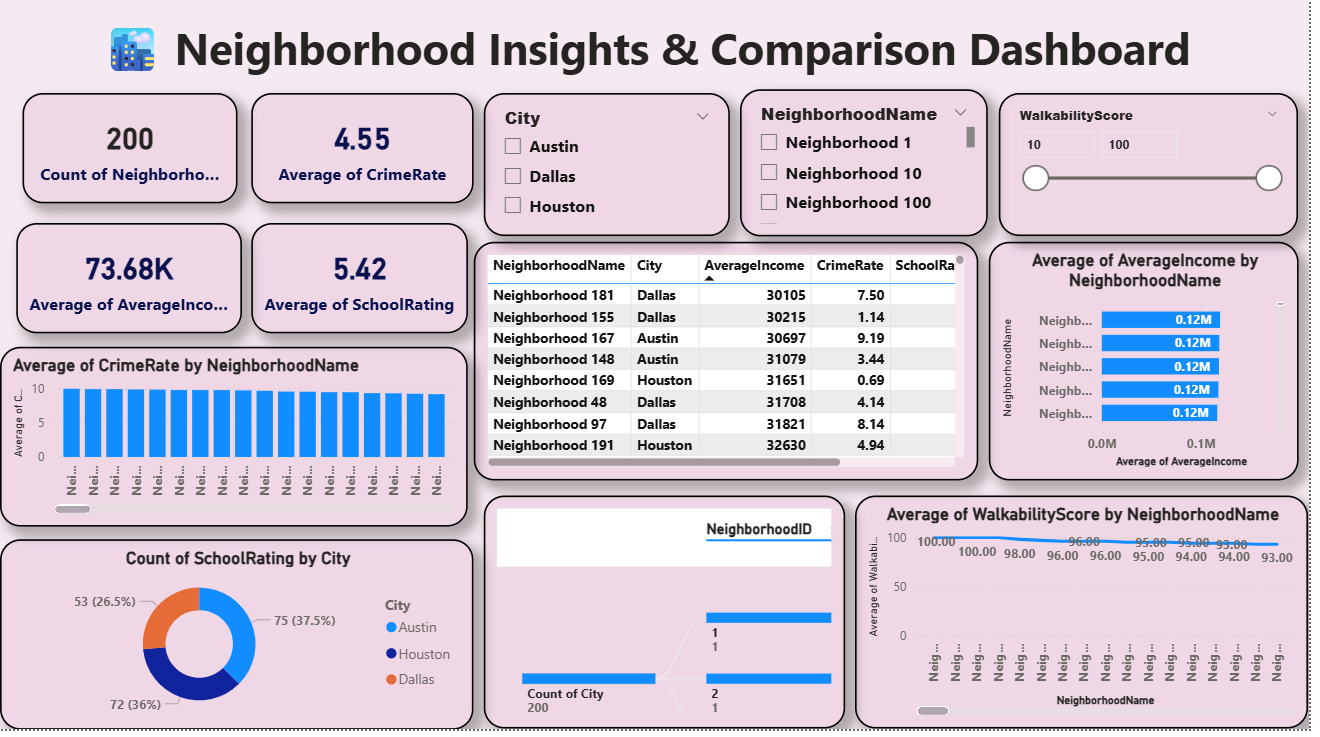

What the dashboard file says about the page in this screenshot:
{"tool":"powerbi","page":{"name":"Page 6","canvas":[1280,720],"ordinal":5},"visuals":[{"type":"card","fields":{"Values":["Avg(Neighborhoods.AverageIncome)"]},"box":[15.9,225.1,220.7,108.2],"z":0},{"type":"card","fields":{"Values":["Count(Neighborhoods.NeighborhoodID)"]},"box":[21.6,98.1,210.6,108.2],"z":1},{"type":"card","fields":{"Values":["Avg(Neighborhoods.SchoolRating)"]},"box":[245.3,225.1,212.1,108.2],"z":2},{"type":"card","fields":{"Values":["Avg(Neighborhoods.CrimeRate)"]},"box":[245.3,98.1,217.9,108.2],"z":3},{"type":"textbox","box":[95.4,19.6,1089.5,68.5],"z":7},{"type":"slicer","fields":{"Values":["Neighborhoods.City"]},"box":[473.2,98.1,240.9,139.9],"z":8},{"type":"slicer","fields":{"Values":["Neighborhoods.NeighborhoodName"]},"box":[724.3,93.8,242.4,144.3],"z":9},{"type":"slicer","fields":{"Values":["Neighborhoods.WalkabilityScore"]},"box":[976.7,98.1,292.9,139.9],"z":10},{"type":"tableEx","fields":{"Values":["Neighborhoods.NeighborhoodName","Neighborhoods.City","Neighborhoods.AverageIncome","Neighborhoods.CrimeRate","Neighborhoods.SchoolRating","Neighborhoods.WalkabilityScore"]},"box":[463.1,243.8,493.4,233.7],"z":11},{"type":"clusteredBarChart","fields":{"Category":["Neighborhoods.NeighborhoodName"],"Y":["Avg(Neighborhoods.AverageIncome)"]},"box":[966.7,243.8,303,233.7],"z":12},{"type":"columnChart","fields":{"Category":["Neighborhoods.NeighborhoodName"],"Y":["Avg(Neighborhoods.CrimeRate)"]},"box":[0,346.3,457.4,176],"z":13},{"type":"lineChart","fields":{"Category":["Neighborhoods.NeighborhoodName"],"Y":["Avg(Neighborhoods.WalkabilityScore)"]},"box":[836.8,492,442.9,228],"z":14},{"type":"decompositionTreeVisual","fields":{"Analyze":["CountNonNull(Neighborhoods.City)"],"ExplainBy":["Neighborhoods.NeighborhoodID"]},"box":[473.2,492,353.5,228],"z":15},{"type":"donutChart","fields":{"Category":["Neighborhoods.City"],"Y":["CountNonNull(Neighborhoods.SchoolRating)"]},"box":[0,533.8,463.1,186.1],"z":16}]}

Visuals, with their boxes in screenshot pixels (x1, y1, x2, y2), scaled from the page's 1280x720 canvas onto the 1320x737 screenshot:
card - Avg(Neighborhoods.AverageIncome): BBox(16, 230, 244, 341)
card - Count(Neighborhoods.NeighborhoodID): BBox(22, 100, 239, 211)
card - Avg(Neighborhoods.SchoolRating): BBox(253, 230, 472, 341)
card - Avg(Neighborhoods.CrimeRate): BBox(253, 100, 478, 211)
textbox: BBox(98, 20, 1222, 90)
slicer - Neighborhoods.City: BBox(488, 100, 736, 244)
slicer - Neighborhoods.NeighborhoodName: BBox(747, 96, 997, 244)
slicer - Neighborhoods.WalkabilityScore: BBox(1007, 100, 1309, 244)
tableEx - Neighborhoods.NeighborhoodName x Neighborhoods.City: BBox(478, 250, 986, 489)
clusteredBarChart - Neighborhoods.NeighborhoodName x Avg(Neighborhoods.AverageIncome): BBox(997, 250, 1309, 489)
columnChart - Neighborhoods.NeighborhoodName x Avg(Neighborhoods.CrimeRate): BBox(0, 354, 472, 535)
lineChart - Neighborhoods.NeighborhoodName x Avg(Neighborhoods.WalkabilityScore): BBox(863, 504, 1319, 736)
decompositionTreeVisual - CountNonNull(Neighborhoods.City) x Neighborhoods.NeighborhoodID: BBox(488, 504, 853, 736)
donutChart - Neighborhoods.City x CountNonNull(Neighborhoods.SchoolRating): BBox(0, 546, 478, 736)
